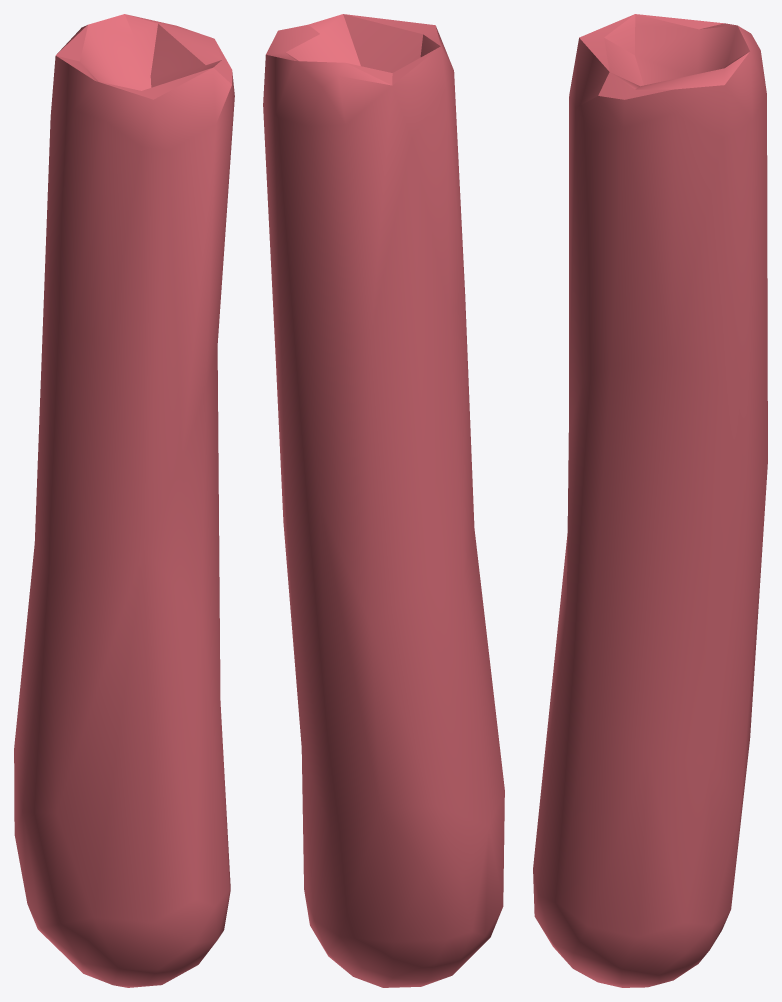
The model's file is fma4754_fj3585.glb.
The picture shows the model from 3 angles, left to right: view 1: azimuth 30°, elevation 25°; view 2: azimuth 150°, elevation 25°; view 3: azimuth 270°, elevation 25°; orthographic projection. The views are drawn at different scales.
Parts seen in each view (by area): view 1: FMA4754_FJ3585; view 2: FMA4754_FJ3585; view 3: FMA4754_FJ3585.
Boxes of the visible parts, bbox=[...] form: FMA4754_FJ3585: bbox=[14, 14, 234, 987]; FMA4754_FJ3585: bbox=[263, 14, 504, 987]; FMA4754_FJ3585: bbox=[533, 14, 767, 987].
Size of the model in its own units: 0.00943 by 0.0413 by 0.00919.
